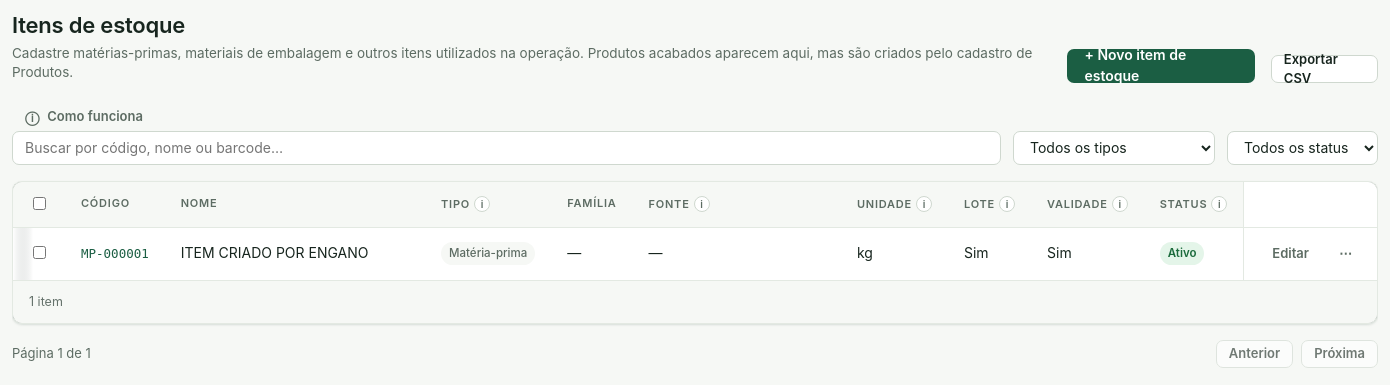
quem vê › PURCHASING inativa o Item, mas não exclui definitivamente
Expected: the text "MP-000001" is shown, top-left (65, 227), bottom-right (165, 280)
Step 1. Click the button named "Mais ações de MP-000001" → (1346, 254), box top-left (1330, 240), bottom-right (1361, 268)
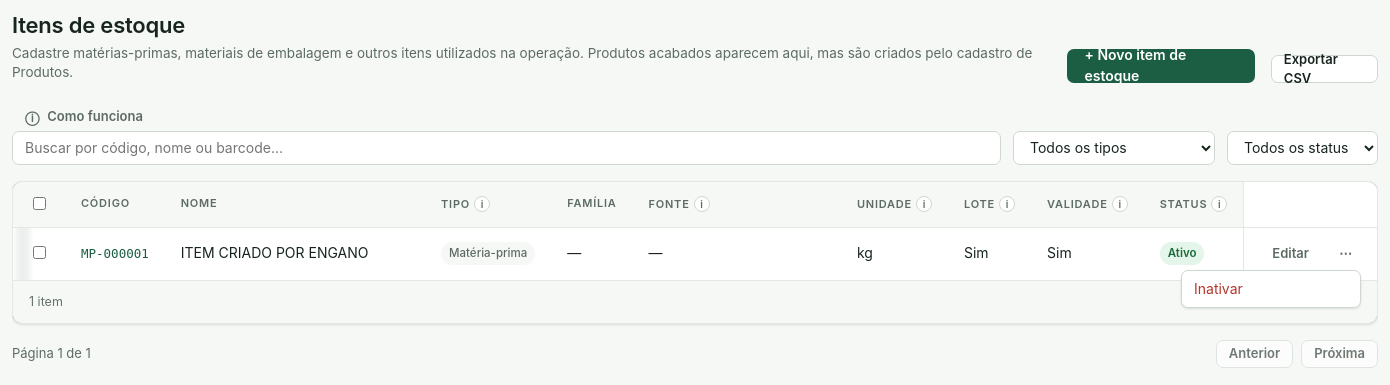
Result: the menu item "Inativar" is shown at top-left (1182, 271), bottom-right (1360, 307)
